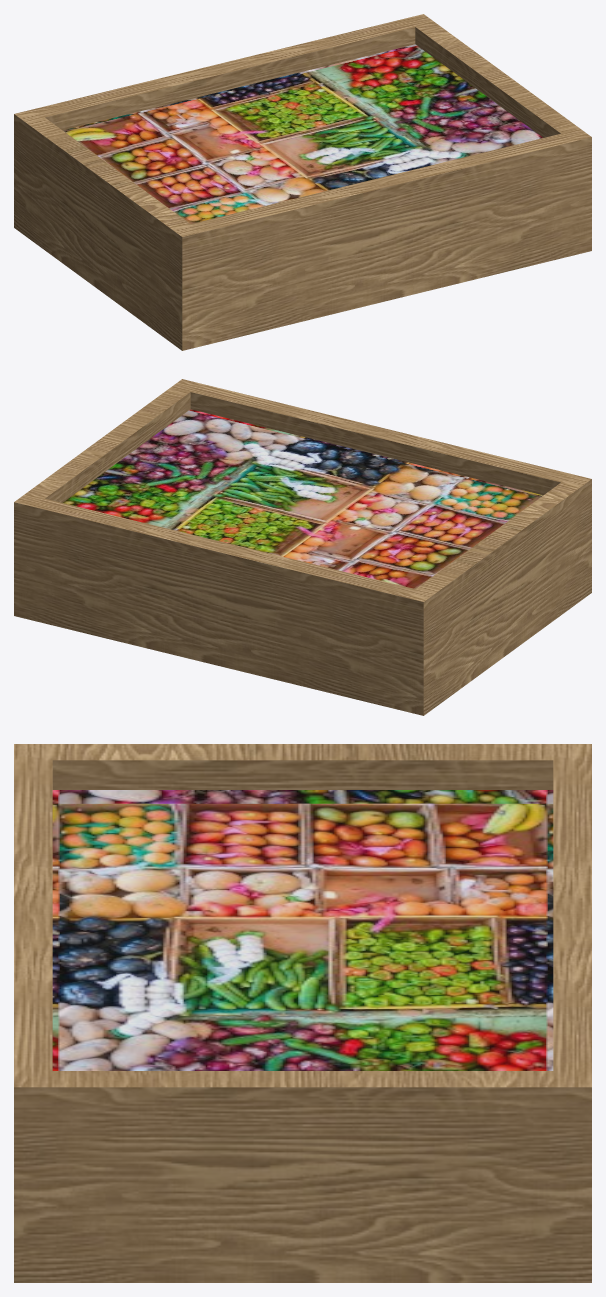
Rendered from vegetable_stand.glb.
3 views of the same model, one above another, from view 1: azimuth 30°, elevation 25°; view 2: azimuth 150°, elevation 25°; view 3: azimuth 270°, elevation 25° (orthographic). The views are drawn at different scales.
Parts seen in each view (by area): view 1: Librero.023; view 2: Librero.023; view 3: Librero.023.
Part boxes in pixels (<box>): Librero.023: <box>14,14,591,350</box>; Librero.023: <box>14,379,591,715</box>; Librero.023: <box>14,744,591,1282</box>.
Size of the model in its own units: 4.02 by 1.07 by 2.86.
Materials: 2 (2 with a texture image).
